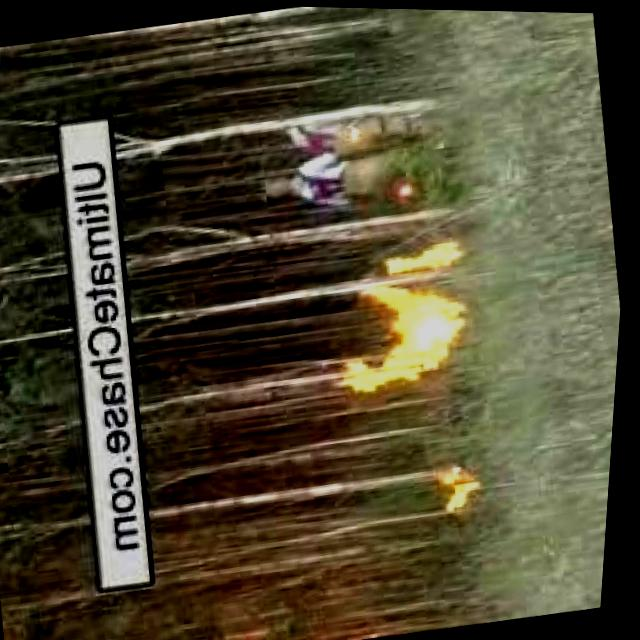Fire: (324, 264, 482, 399), (353, 275, 481, 396), (440, 461, 497, 520), (391, 237, 469, 274)
